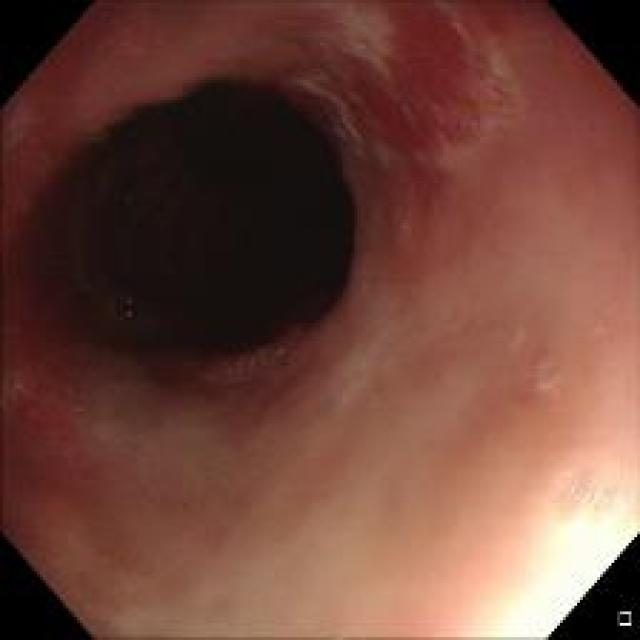bubbles: (562, 466, 612, 508), (529, 341, 564, 398), (395, 208, 421, 234), (119, 294, 136, 324)
contrast: (6, 58, 362, 408)
saturation: (470, 488, 636, 638)
